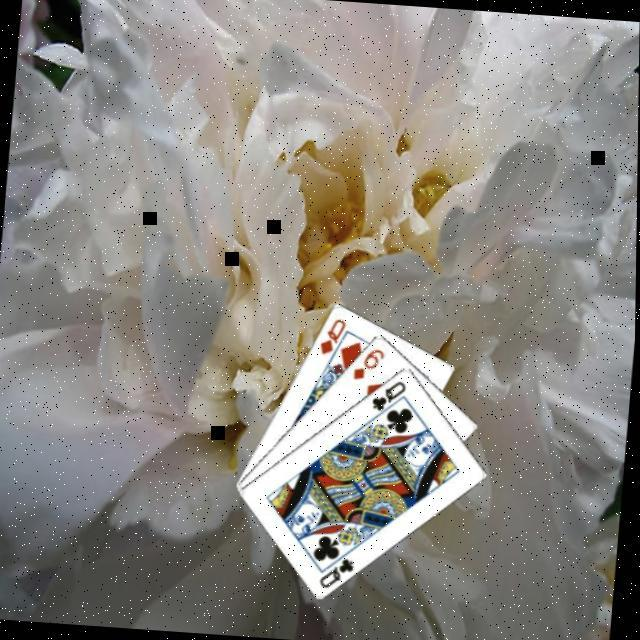6D: (350, 342, 388, 382)
QC: (368, 374, 409, 414), (318, 551, 358, 591)
QD: (314, 313, 348, 357)
